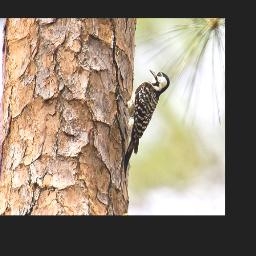Woodpecker: (115, 70, 170, 178)
